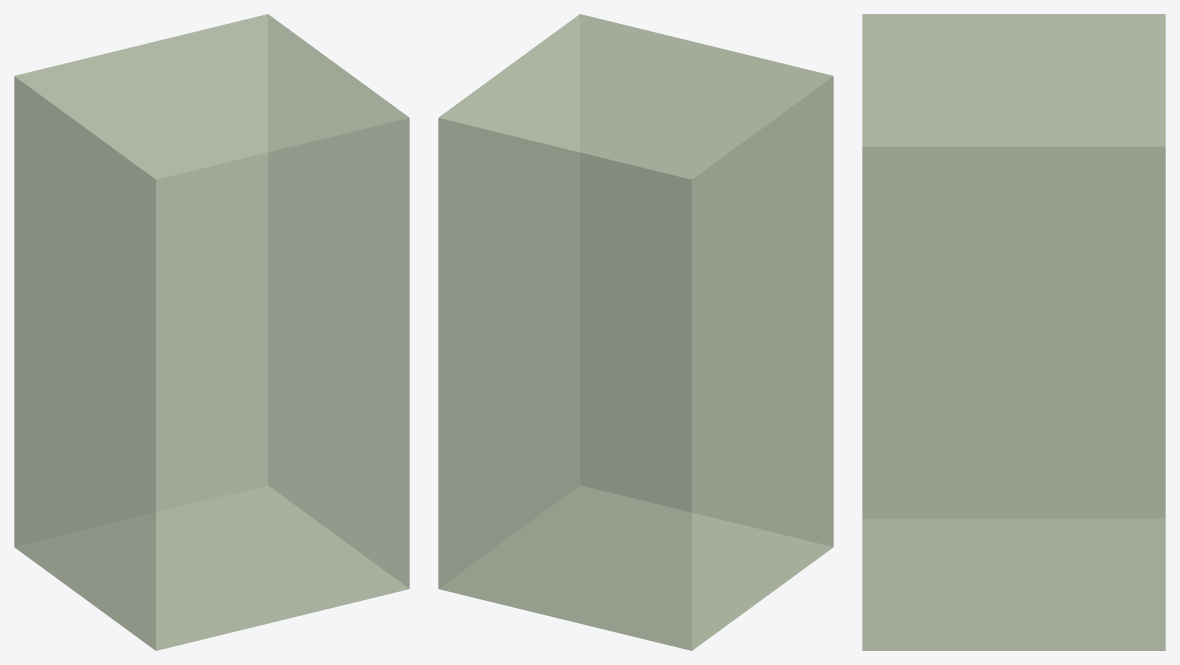
File: blockout.glb
3 renders of one model, left to right at view 1: azimuth 30°, elevation 25°; view 2: azimuth 150°, elevation 25°; view 3: azimuth 270°, elevation 25°, orthographic. The views are drawn at different scales.
Parts seen in each view (by area): view 1: U16_ENVELOPE_NOT_FINAL_MESH; view 2: U16_ENVELOPE_NOT_FINAL_MESH; view 3: U16_ENVELOPE_NOT_FINAL_MESH.
Boxes of the visible parts, bbox=[...] form: U16_ENVELOPE_NOT_FINAL_MESH: bbox=[14, 14, 409, 650]; U16_ENVELOPE_NOT_FINAL_MESH: bbox=[438, 14, 833, 650]; U16_ENVELOPE_NOT_FINAL_MESH: bbox=[862, 14, 1165, 650].
Bounding box in the file's own units: 3.1 × 5.5 × 3.
